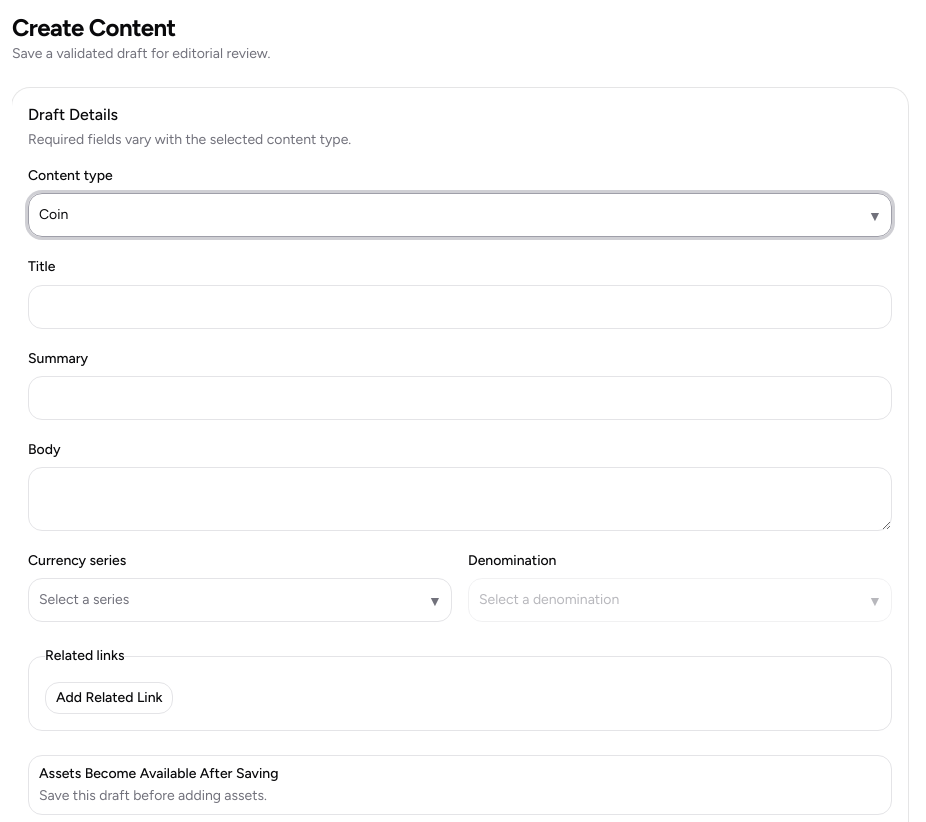
it: ContentFormView › shows only fields applicable to each of the five content types
Earlier steps of the test are not shown.
Expected: the dropdown named "currency series" is shown, [28,578,452,622]
Click the dropdown named "content type" at (54, 215), box [28,193,892,237]
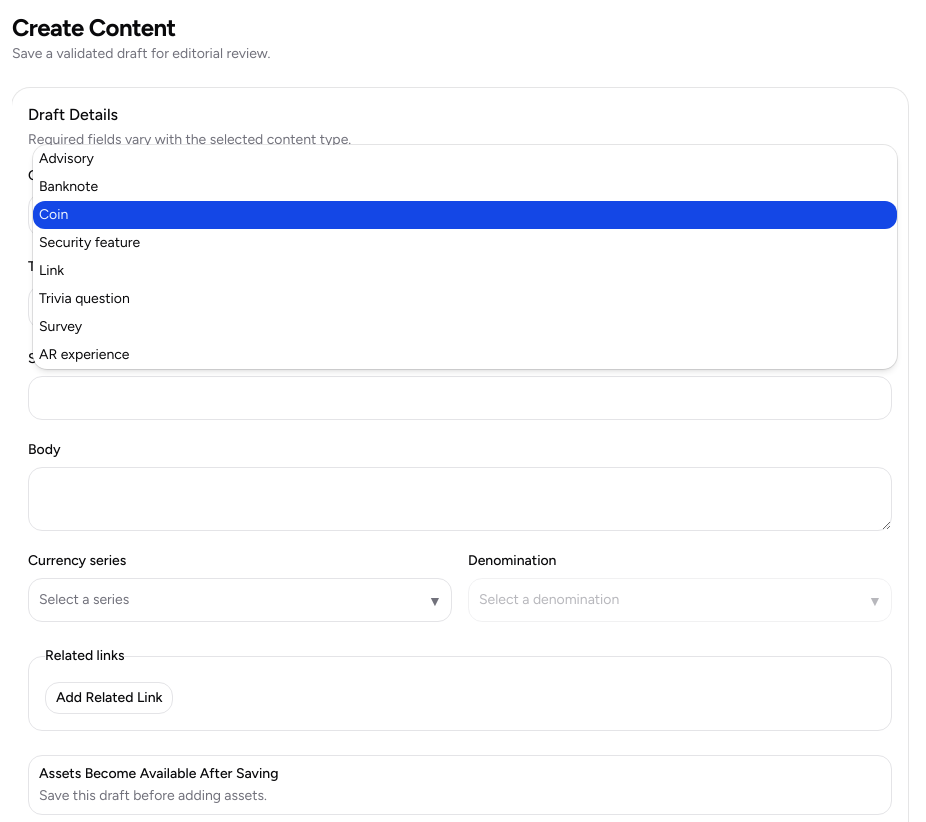
Click the option "Security feature" at (90, 243), box [39,234,140,251]
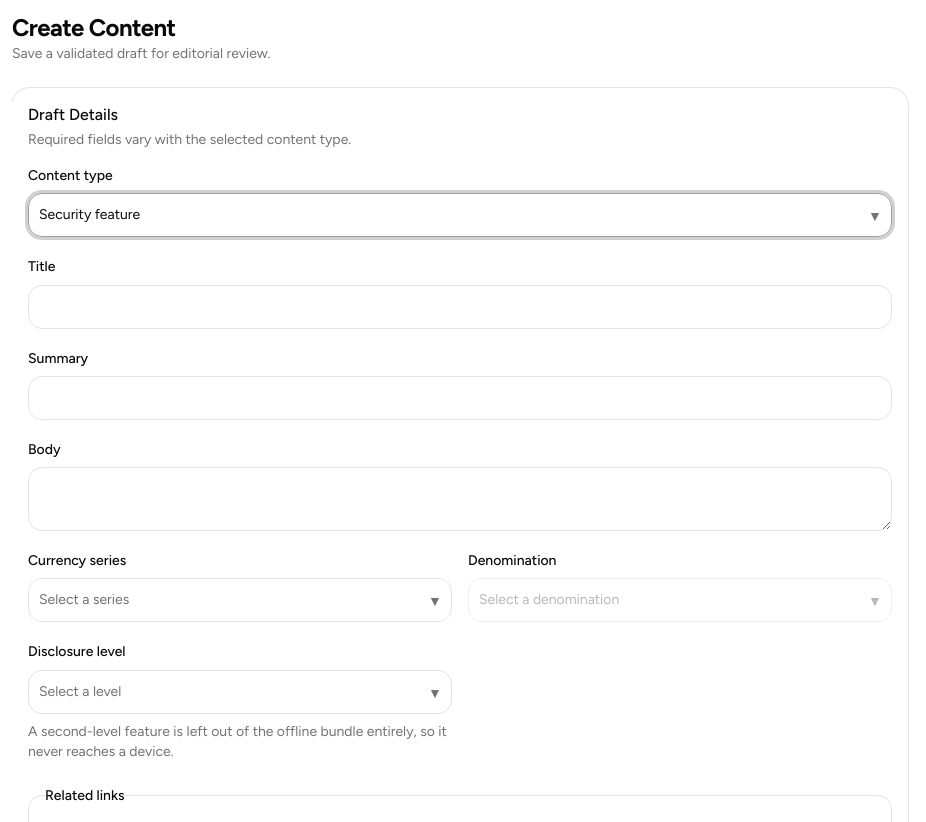
Expected: the dropdown named "currency series" is shown, [28,578,452,622]
Click the dropdown named "content type" at (90, 215), box [28,193,892,237]
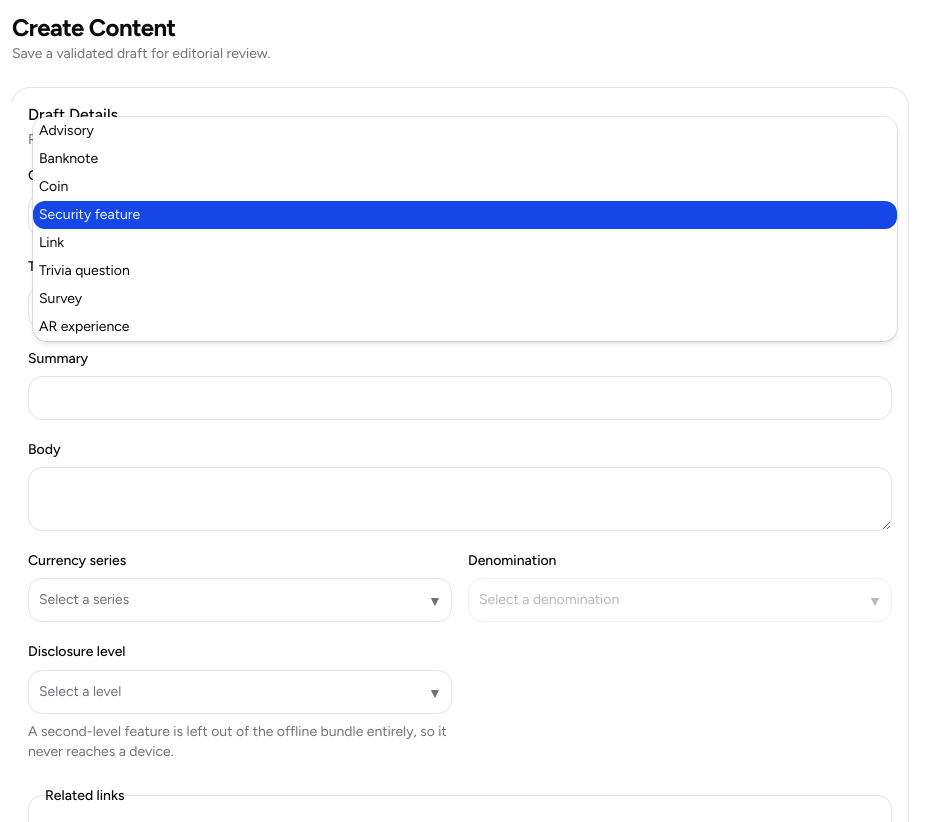
Click the option "Link" at (52, 243), box [39,234,64,251]
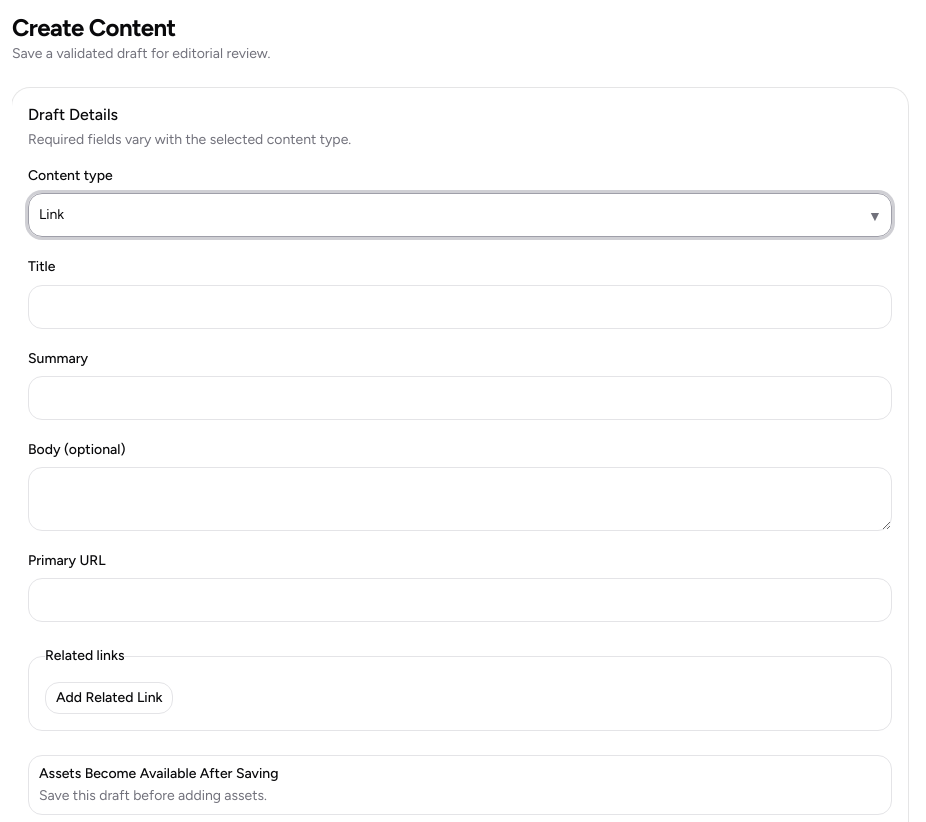
Expected: the field labelled "Primary URL" is shown, [28,578,892,622]
Expected: the label labelled "Currency series" is gone
Click the dropdown named "content type" at (52, 215), box [28,193,892,237]
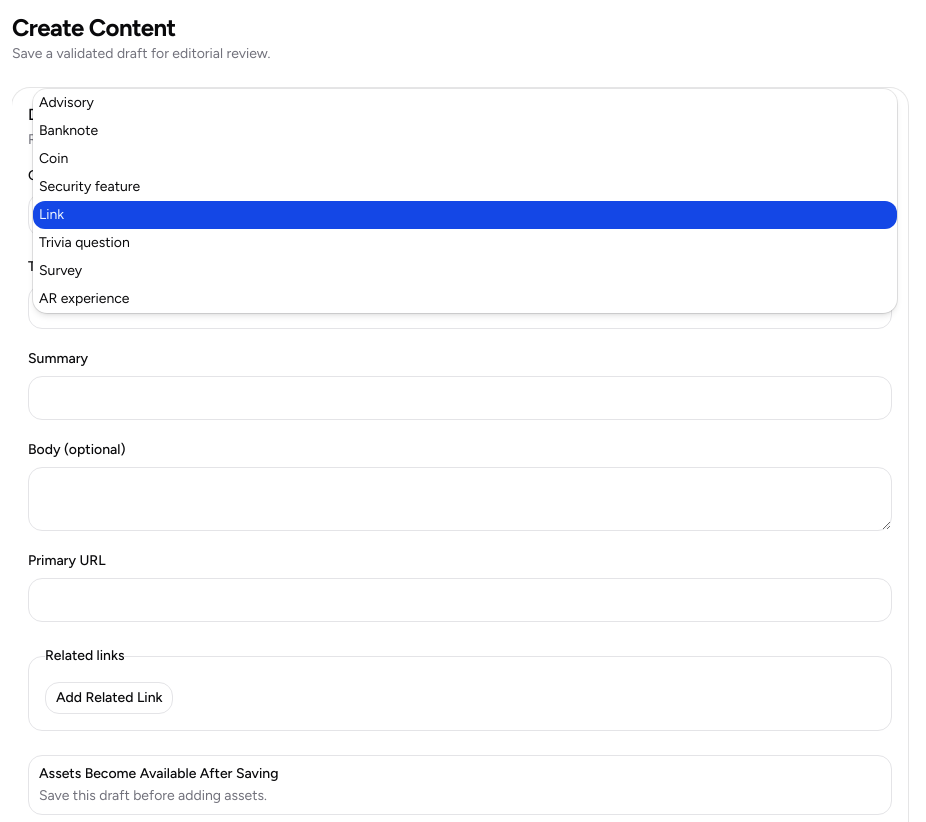
Click the option "Advisory" at (66, 103), box [39,94,94,111]
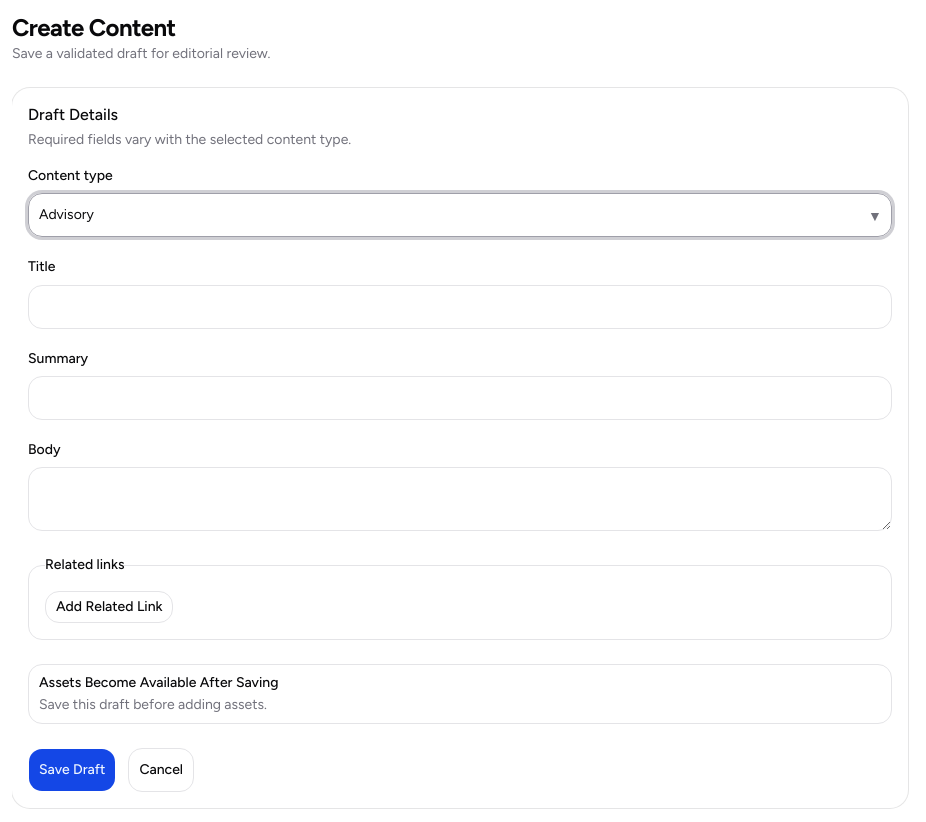
Expected: the label labelled "Currency series" is not shown
Expected: the label labelled "Primary URL" is gone
